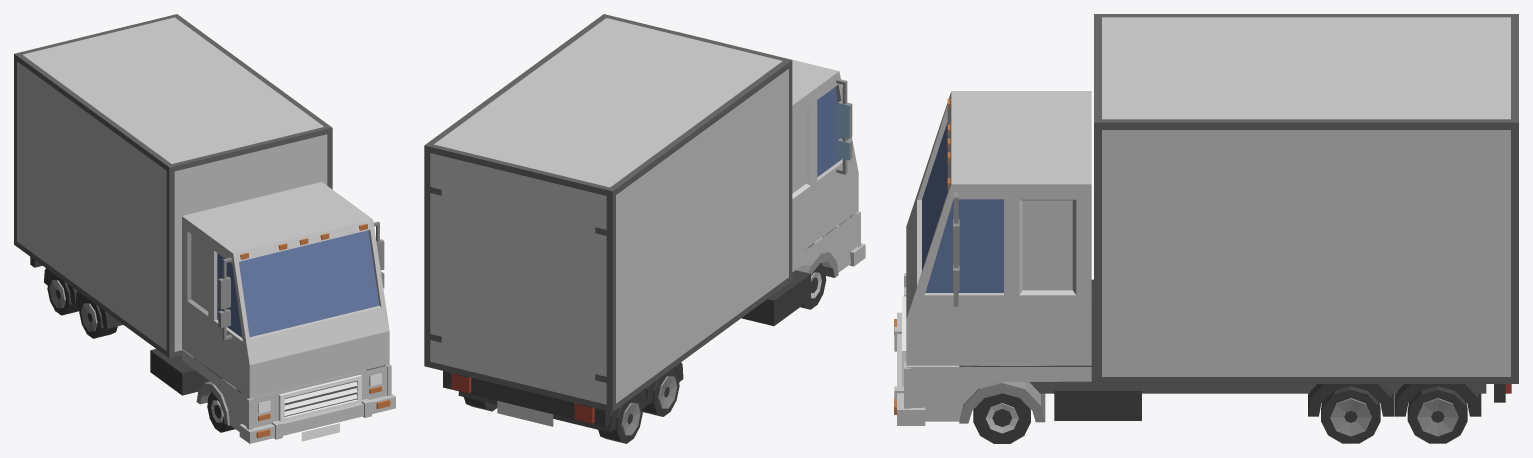
Rendered from transport_truck_004.fbx.
3 renders of one model, left to right at view 1: azimuth 30°, elevation 25°; view 2: azimuth 150°, elevation 25°; view 3: azimuth 270°, elevation 25°, orthographic. The views are drawn at different scales.
Visible parts, largest first — view 1: transport_truck_004; view 2: transport_truck_004; view 3: transport_truck_004.
Part boxes in pixels (x1,y1,x2,y2): transport_truck_004: [14, 14, 395, 443]; transport_truck_004: [424, 14, 865, 443]; transport_truck_004: [894, 14, 1518, 443].
Bounding box in the file's own units: 225 × 313 × 536.
